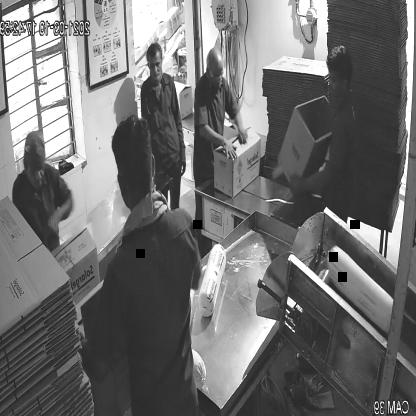no_glove: (287, 152, 335, 204), (190, 123, 237, 170), (46, 184, 75, 246)
